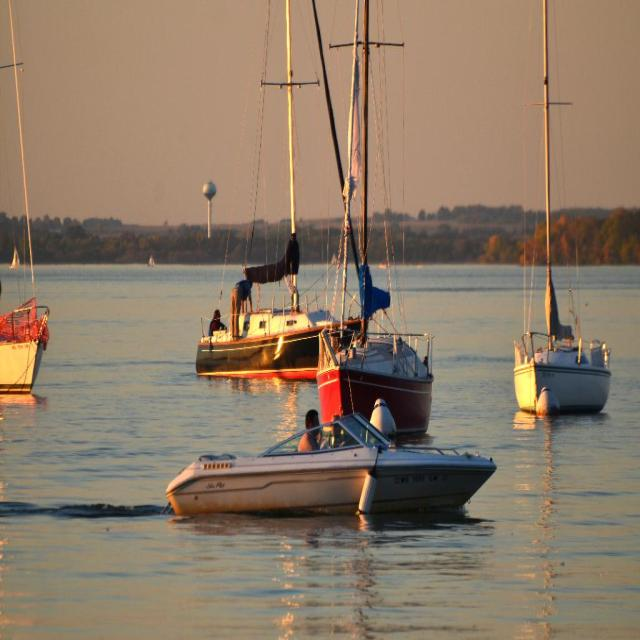Boat: (312, 0, 436, 451), (195, 1, 341, 380), (514, 0, 616, 419), (166, 408, 497, 516), (0, 0, 52, 401)
